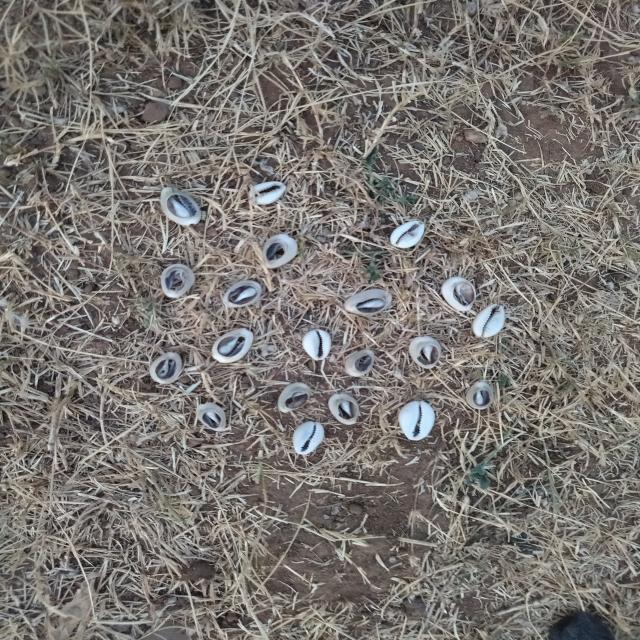facedown: (208, 324, 259, 366), (157, 184, 205, 227), (208, 324, 256, 364), (259, 231, 300, 272), (341, 288, 397, 318), (146, 351, 187, 388), (159, 262, 197, 300), (326, 390, 364, 427), (407, 334, 444, 370), (275, 382, 315, 415), (192, 402, 234, 432), (342, 345, 379, 379), (464, 381, 497, 411), (441, 278, 466, 316)
faceup: (395, 398, 437, 442), (218, 278, 264, 310), (388, 217, 431, 250), (472, 302, 506, 341), (290, 420, 327, 455), (300, 327, 335, 363), (245, 180, 288, 207)
